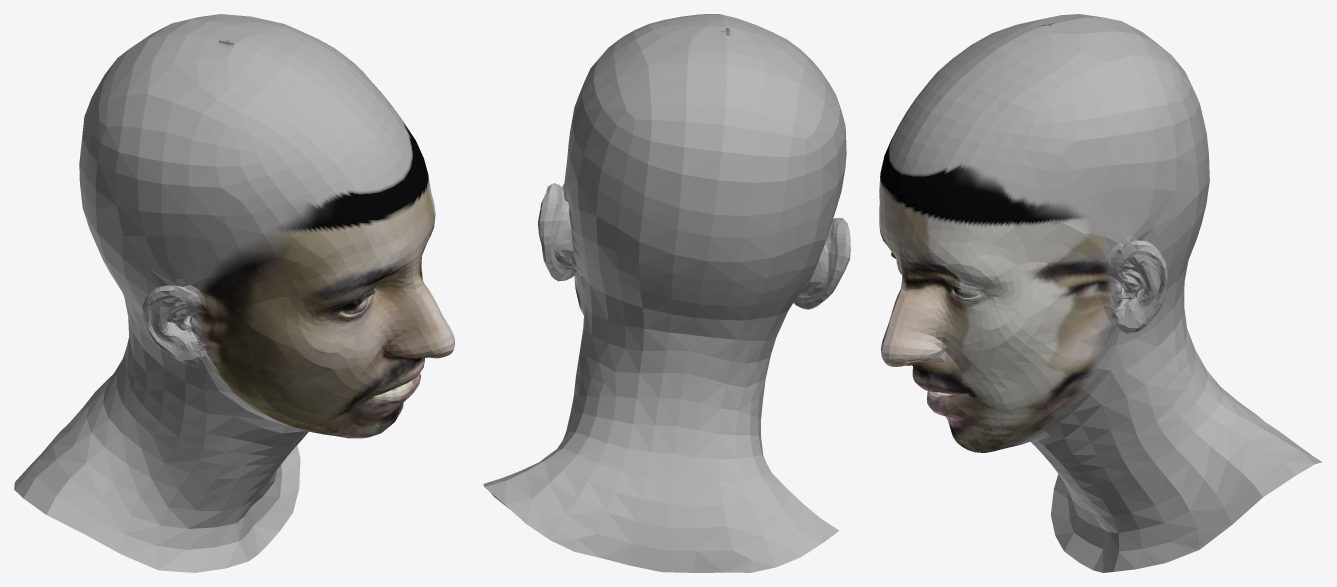
The model's file is ezgif-frame-044.obj.
The picture shows the model from 3 angles, left to right: view 1: azimuth 30°, elevation 25°; view 2: azimuth 150°, elevation 25°; view 3: azimuth 270°, elevation 25°; orthographic projection. The views are drawn at different scales.
Size of the model in its own units: 0.2017 by 0.3243 by 0.2528.
Materials: 1 (1 with a texture image).
